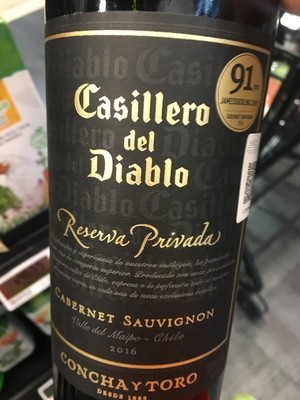casillero del diablo reserva privada cabernet sauvignon: (44, 4, 276, 400)
